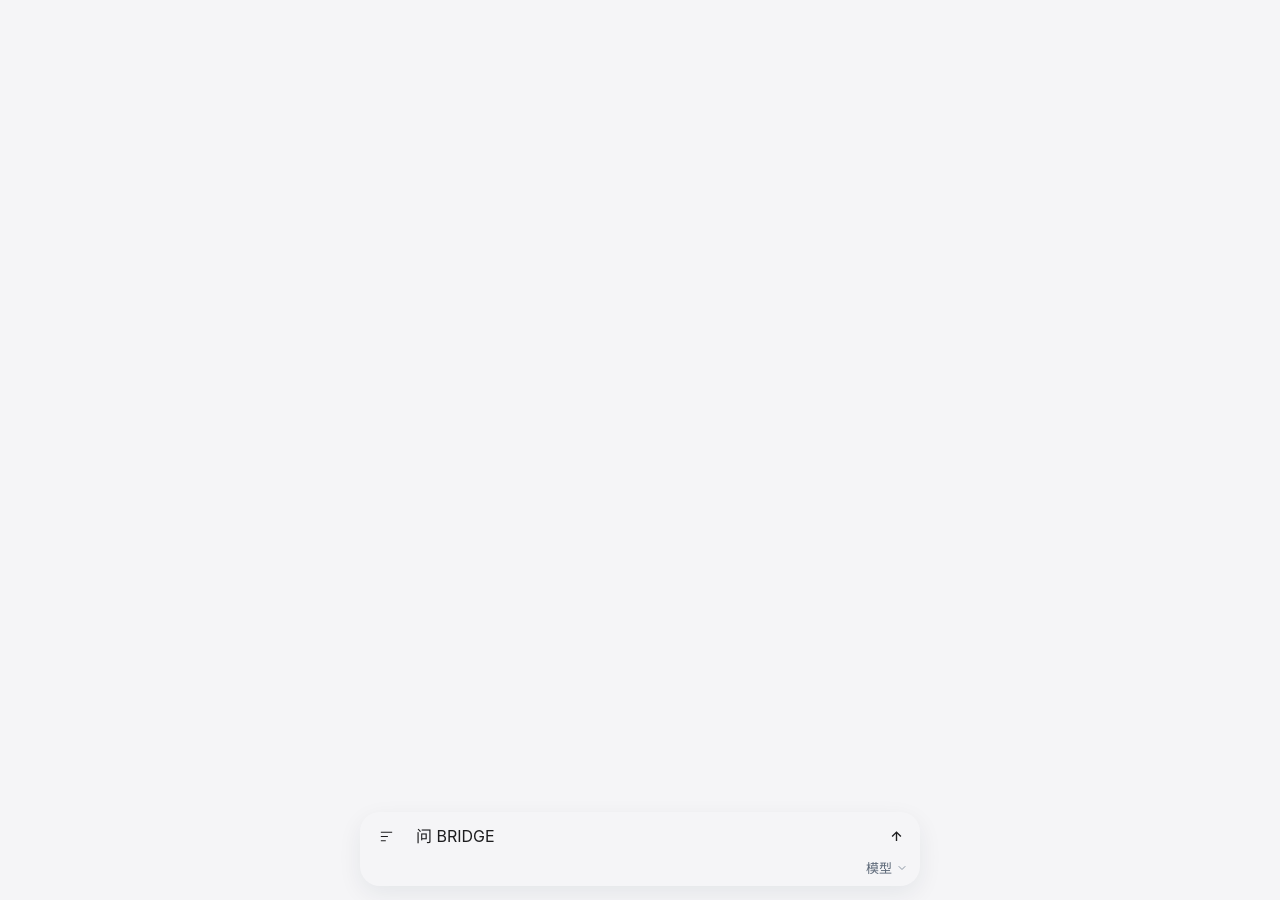
restores history, reuses one conversation and preserves failed text for retry
In the field labelled "问 BRIDGE": (641, 836) [410,818,872,854], type "Preserve this question"
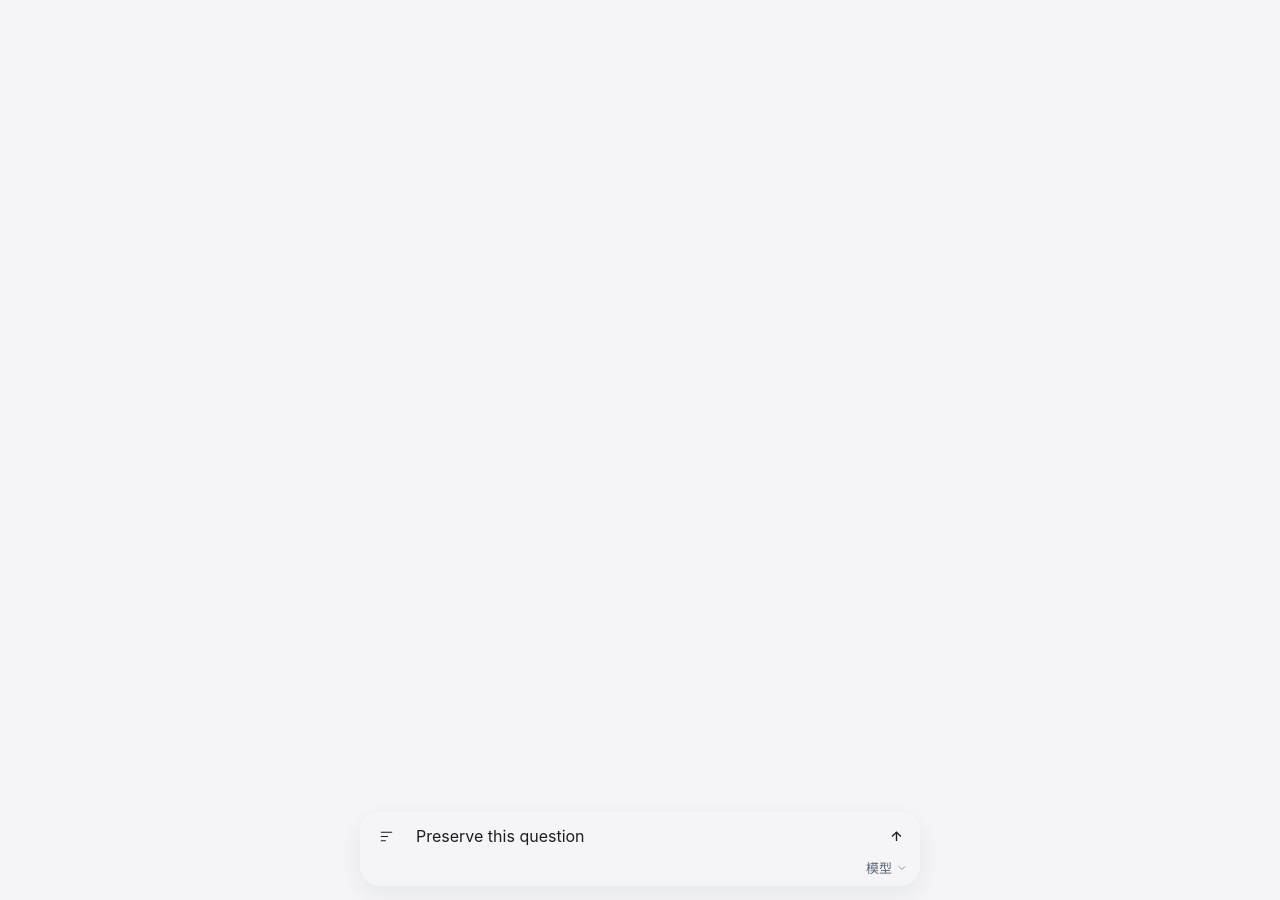
Click the button named "发送": (896, 836) [878,818,914,854]
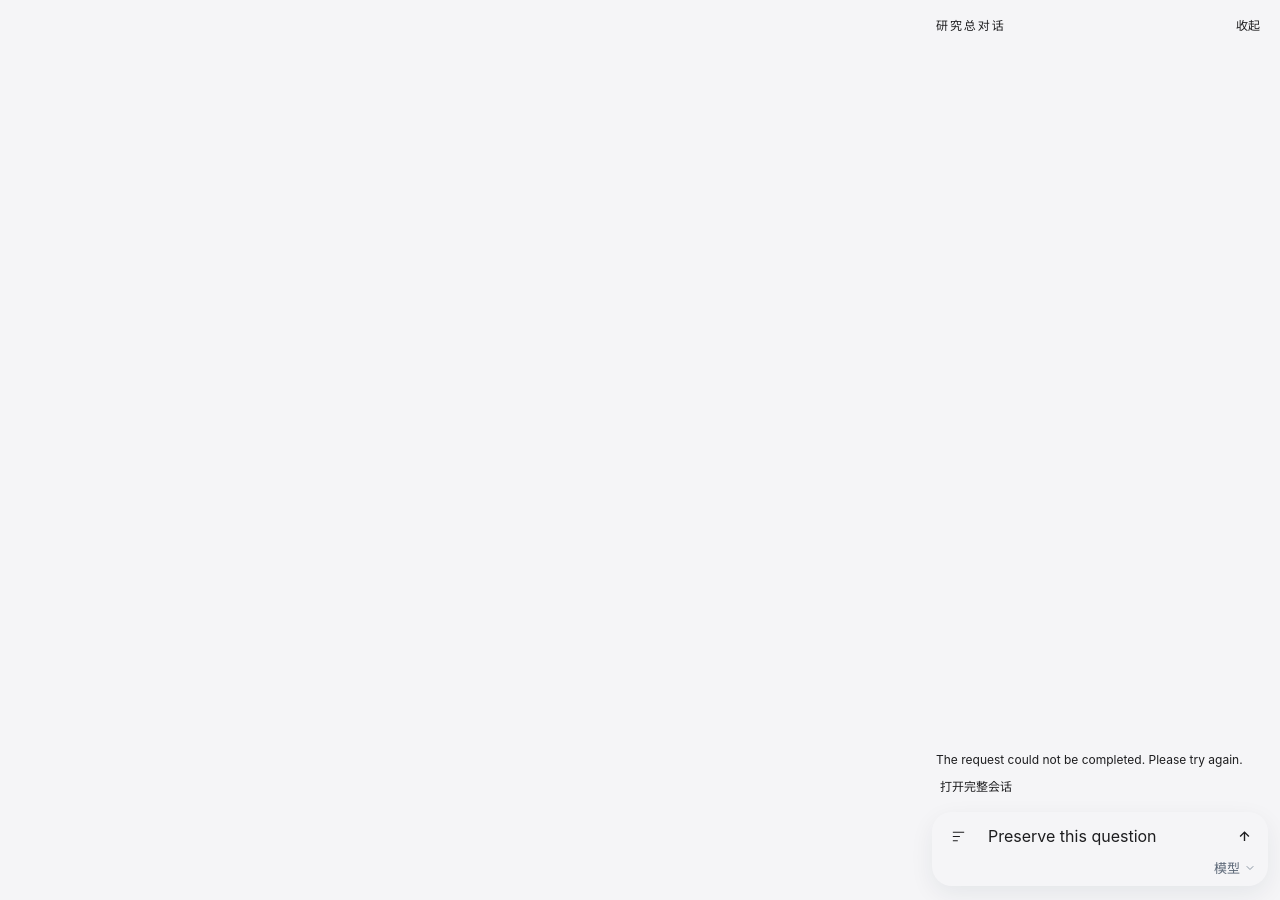
expect the field named "问 BRIDGE" holds "Preserve this question": met, box [982,818,1220,854]
expect the message "The request could not be completed. Please try again." is shown: met, box [936,752,1264,767]
Click the button named "发送": (1244, 836) [1226,818,1262,854]
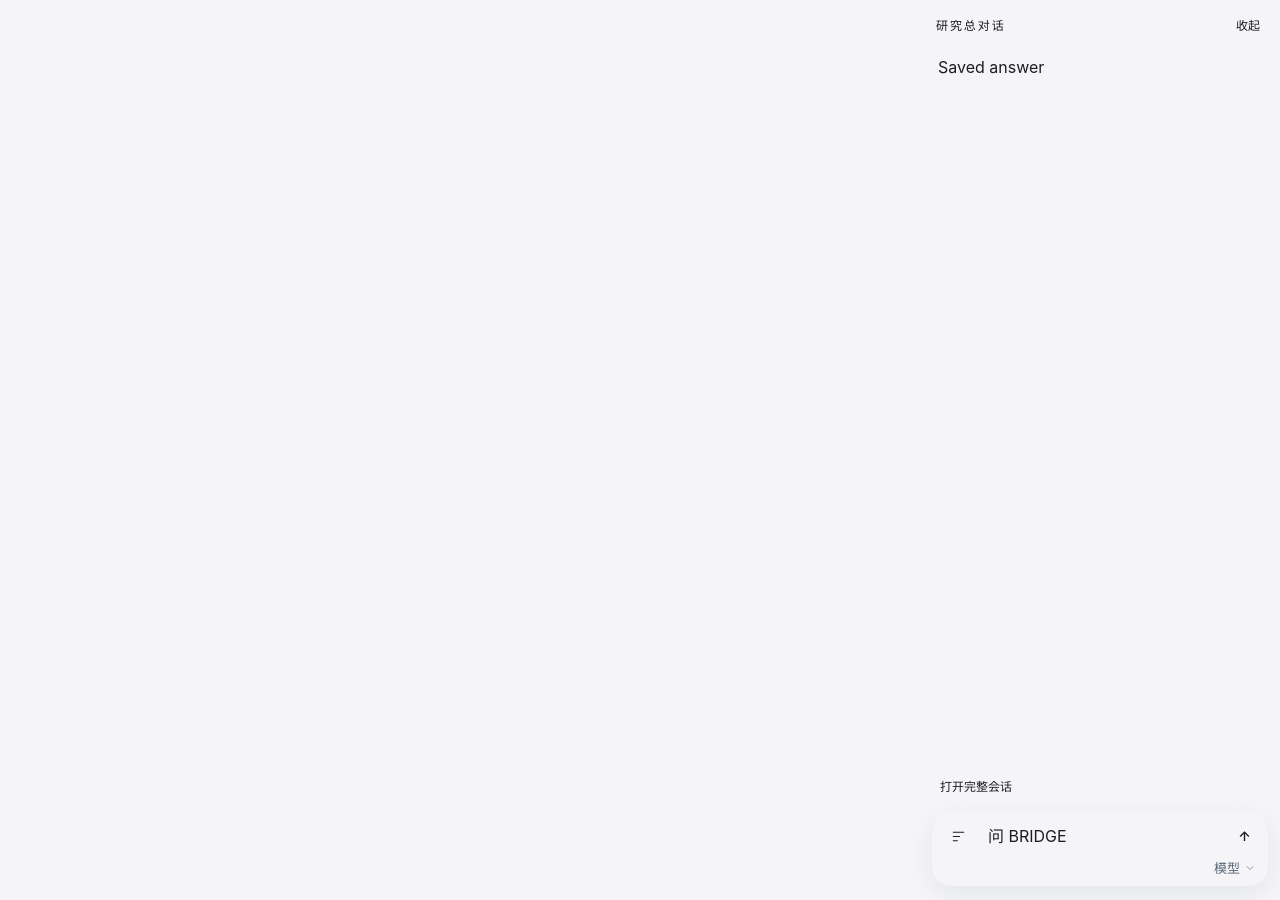
expect the text "Saved answer" is shown: met, box [938,57,1044,77]
